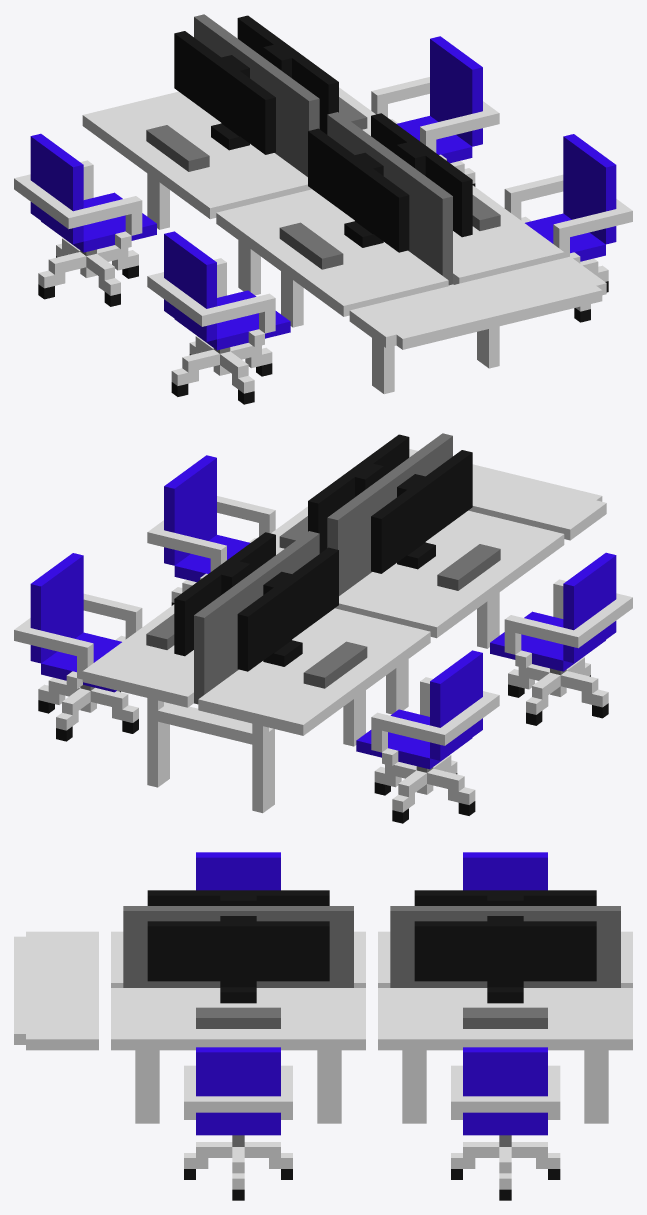
Rendered from 4er-tisch-verl-95-4er arbeitsplatz.obj.
3 renders of one model, top to bottom at view 1: azimuth 30°, elevation 25°; view 2: azimuth 150°, elevation 25°; view 3: azimuth 270°, elevation 25°, orthographic.
Parts seen in each view (by area): view 1: 4er arbeitsplatz; view 2: 4er arbeitsplatz; view 3: 4er arbeitsplatz.
Boxes of the visible parts, x1,y1,x2,y2 form: 4er arbeitsplatz: (14,14,632,404); 4er arbeitsplatz: (14,433,632,823); 4er arbeitsplatz: (14,852,632,1200).
Size of the model in its own units: 4.1 by 1.7 by 5.1.
Materials: 1 (1 with a texture image).
